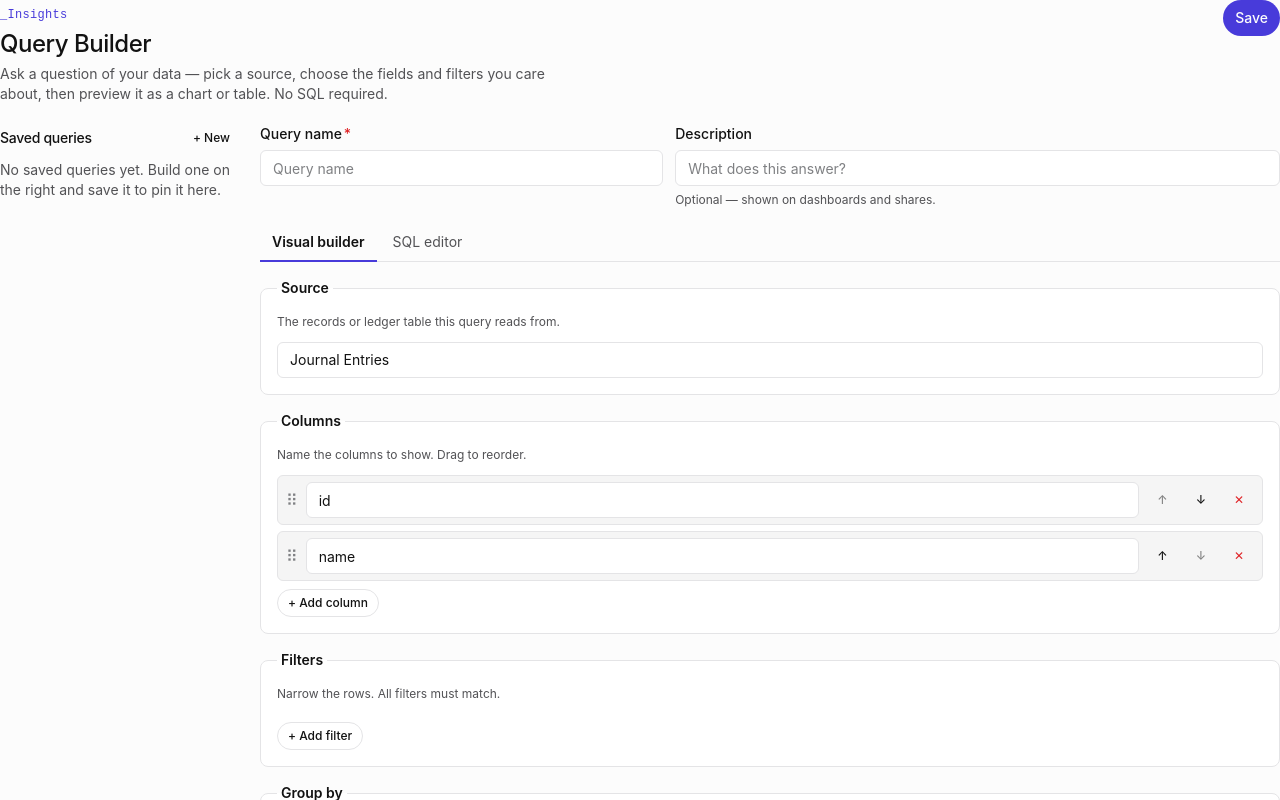
Test: InsightsQueryBuilderPage › blocks Save when the query name is empty and surfaces the error inline
What coordinates should you click on to do the following:
click the button "Save"
I would click on:
 (1252, 18)
Its box is [1223, 0, 1279, 36].
(page scrolled)
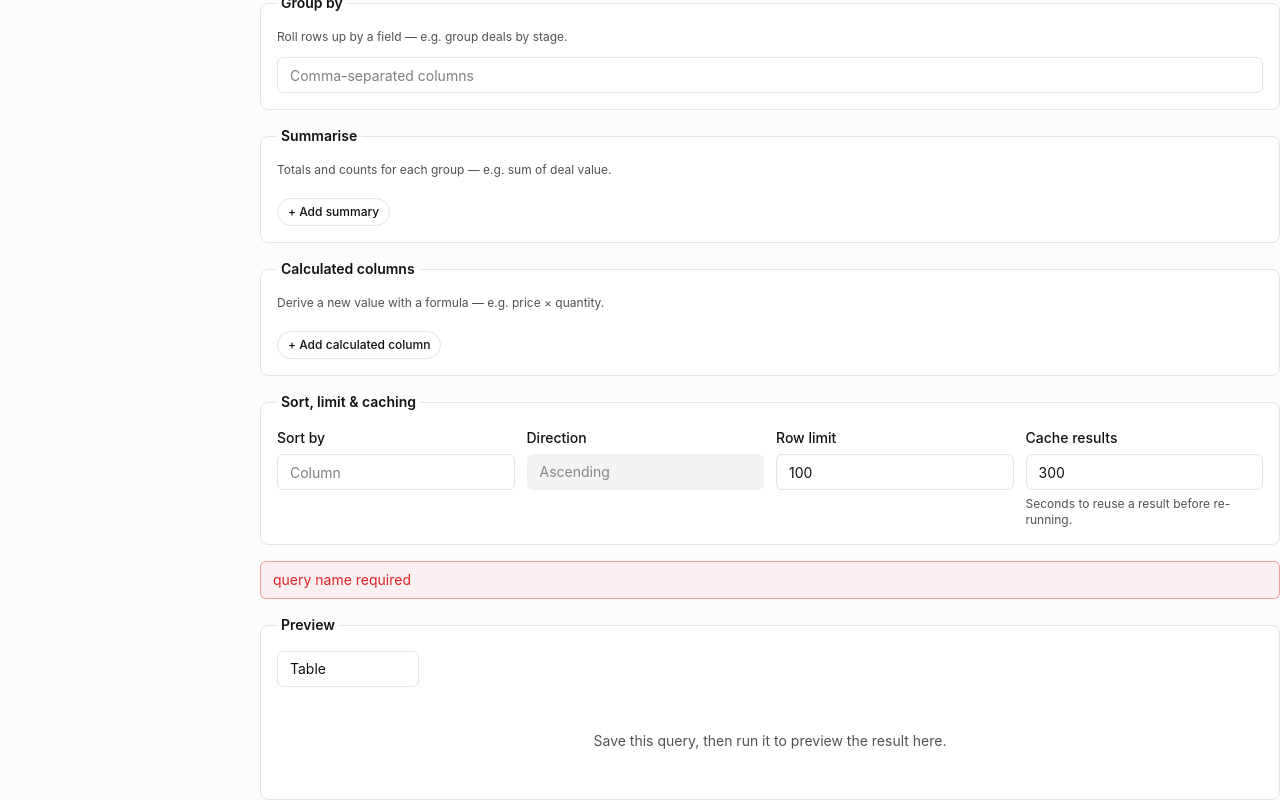
Expected: the text "query name required" is shown, [260, 561, 1279, 599]
